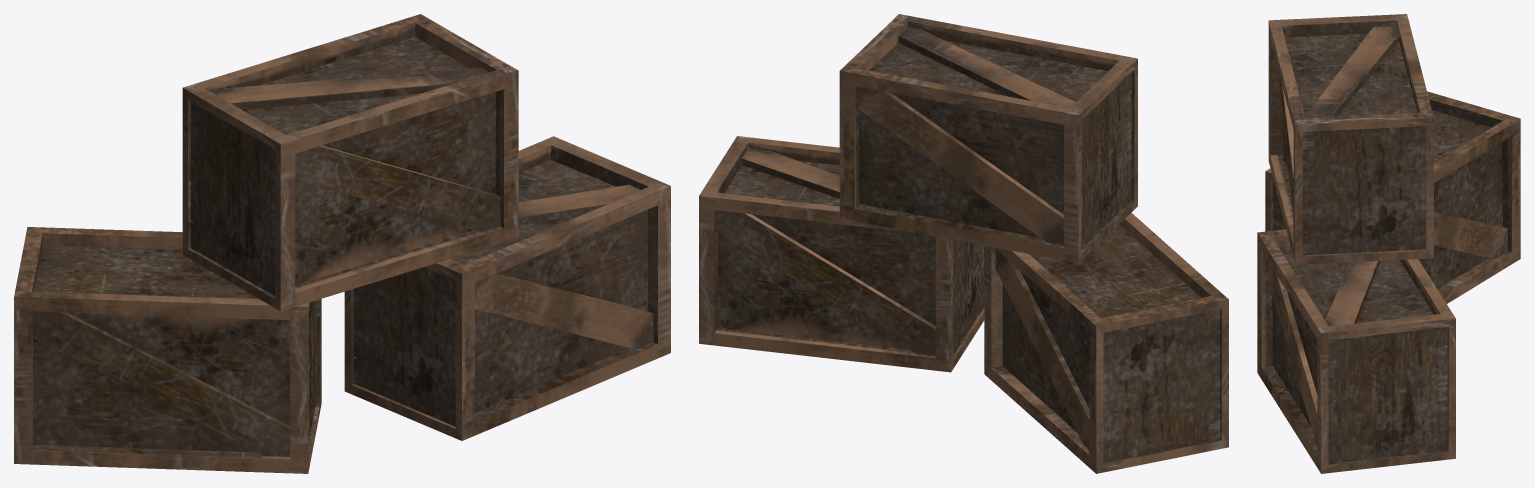
The model's file is SM_Crate_A_Stack.glb.
3 views of the same model, side by side, from view 1: azimuth 30°, elevation 25°; view 2: azimuth 150°, elevation 25°; view 3: azimuth 270°, elevation 25° (orthographic). The views are drawn at different scales.
Parts seen in each view (by area): view 1: SM_Crates_A_Pile; view 2: SM_Crates_A_Pile; view 3: SM_Crates_A_Pile.
Boxes of the visible parts, box(x1,y1,x2,y2) form: SM_Crates_A_Pile: box(14, 14, 670, 473); SM_Crates_A_Pile: box(699, 14, 1228, 473); SM_Crates_A_Pile: box(1257, 14, 1520, 473).
Bounding box in the file's own units: 1.9 × 1 × 0.8504.
1 material, 1 textured.
